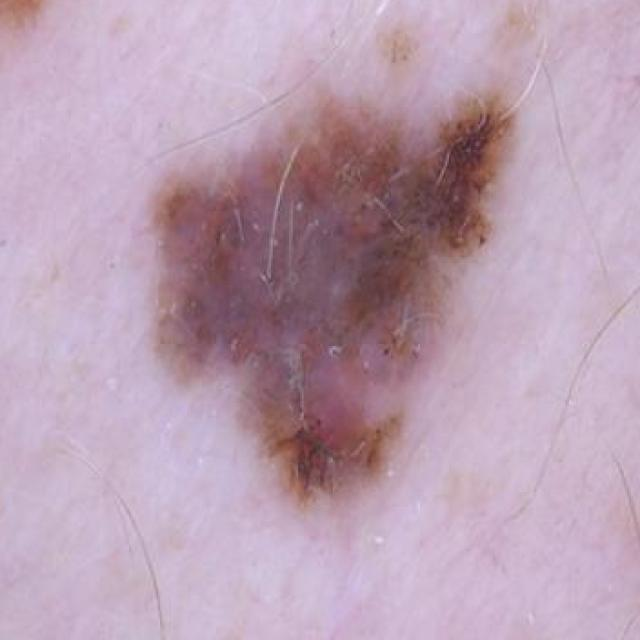MEL: (142, 0, 564, 522), (0, 0, 80, 91)
